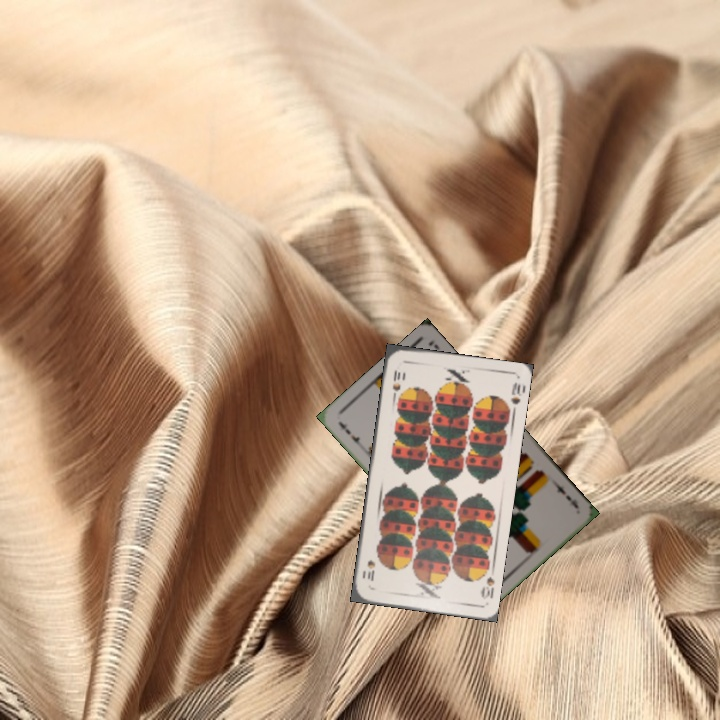E7: (549, 477, 581, 511), (334, 417, 366, 450)
S10: (476, 564, 497, 602), (388, 366, 403, 401)
